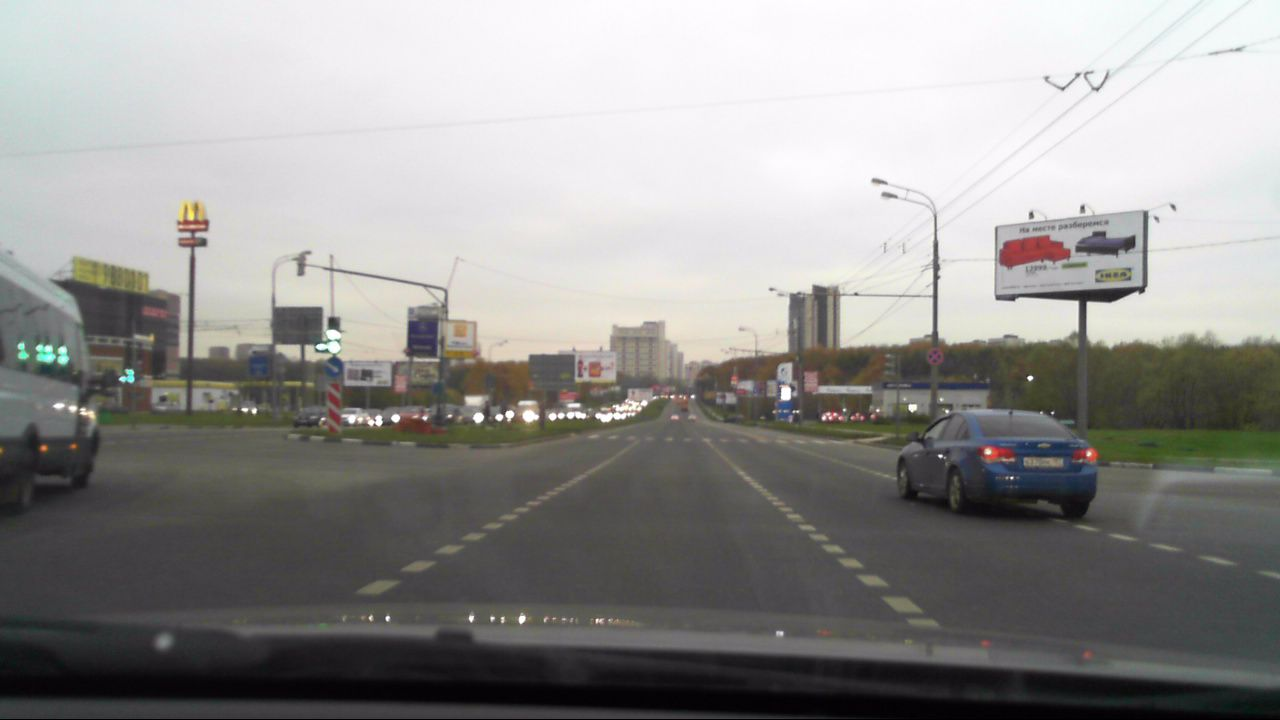No Parking: (926, 347, 945, 366)
